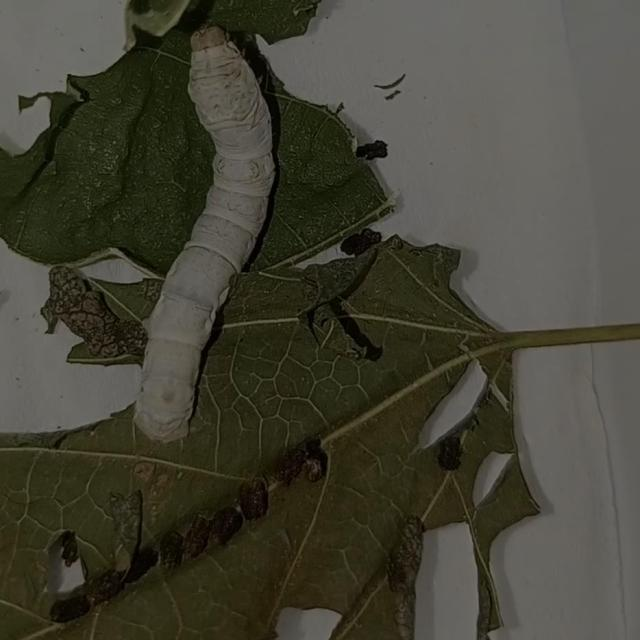Healthy: (121, 23, 295, 450)
